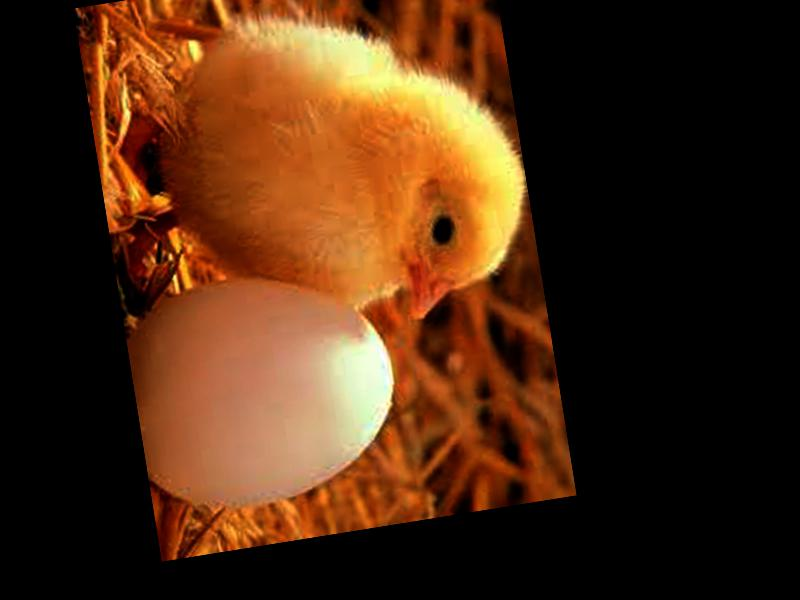Eggs: (119, 255, 411, 520)
